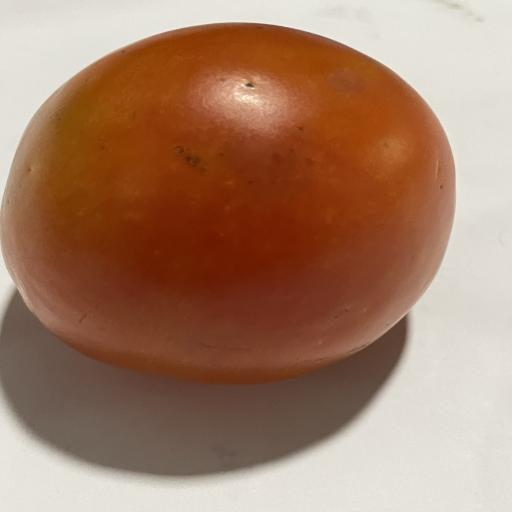unripe: (2, 23, 454, 381)
